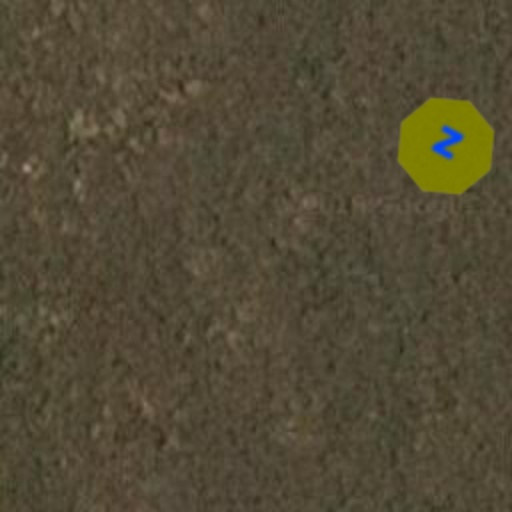octagon: (374, 76, 512, 216)
